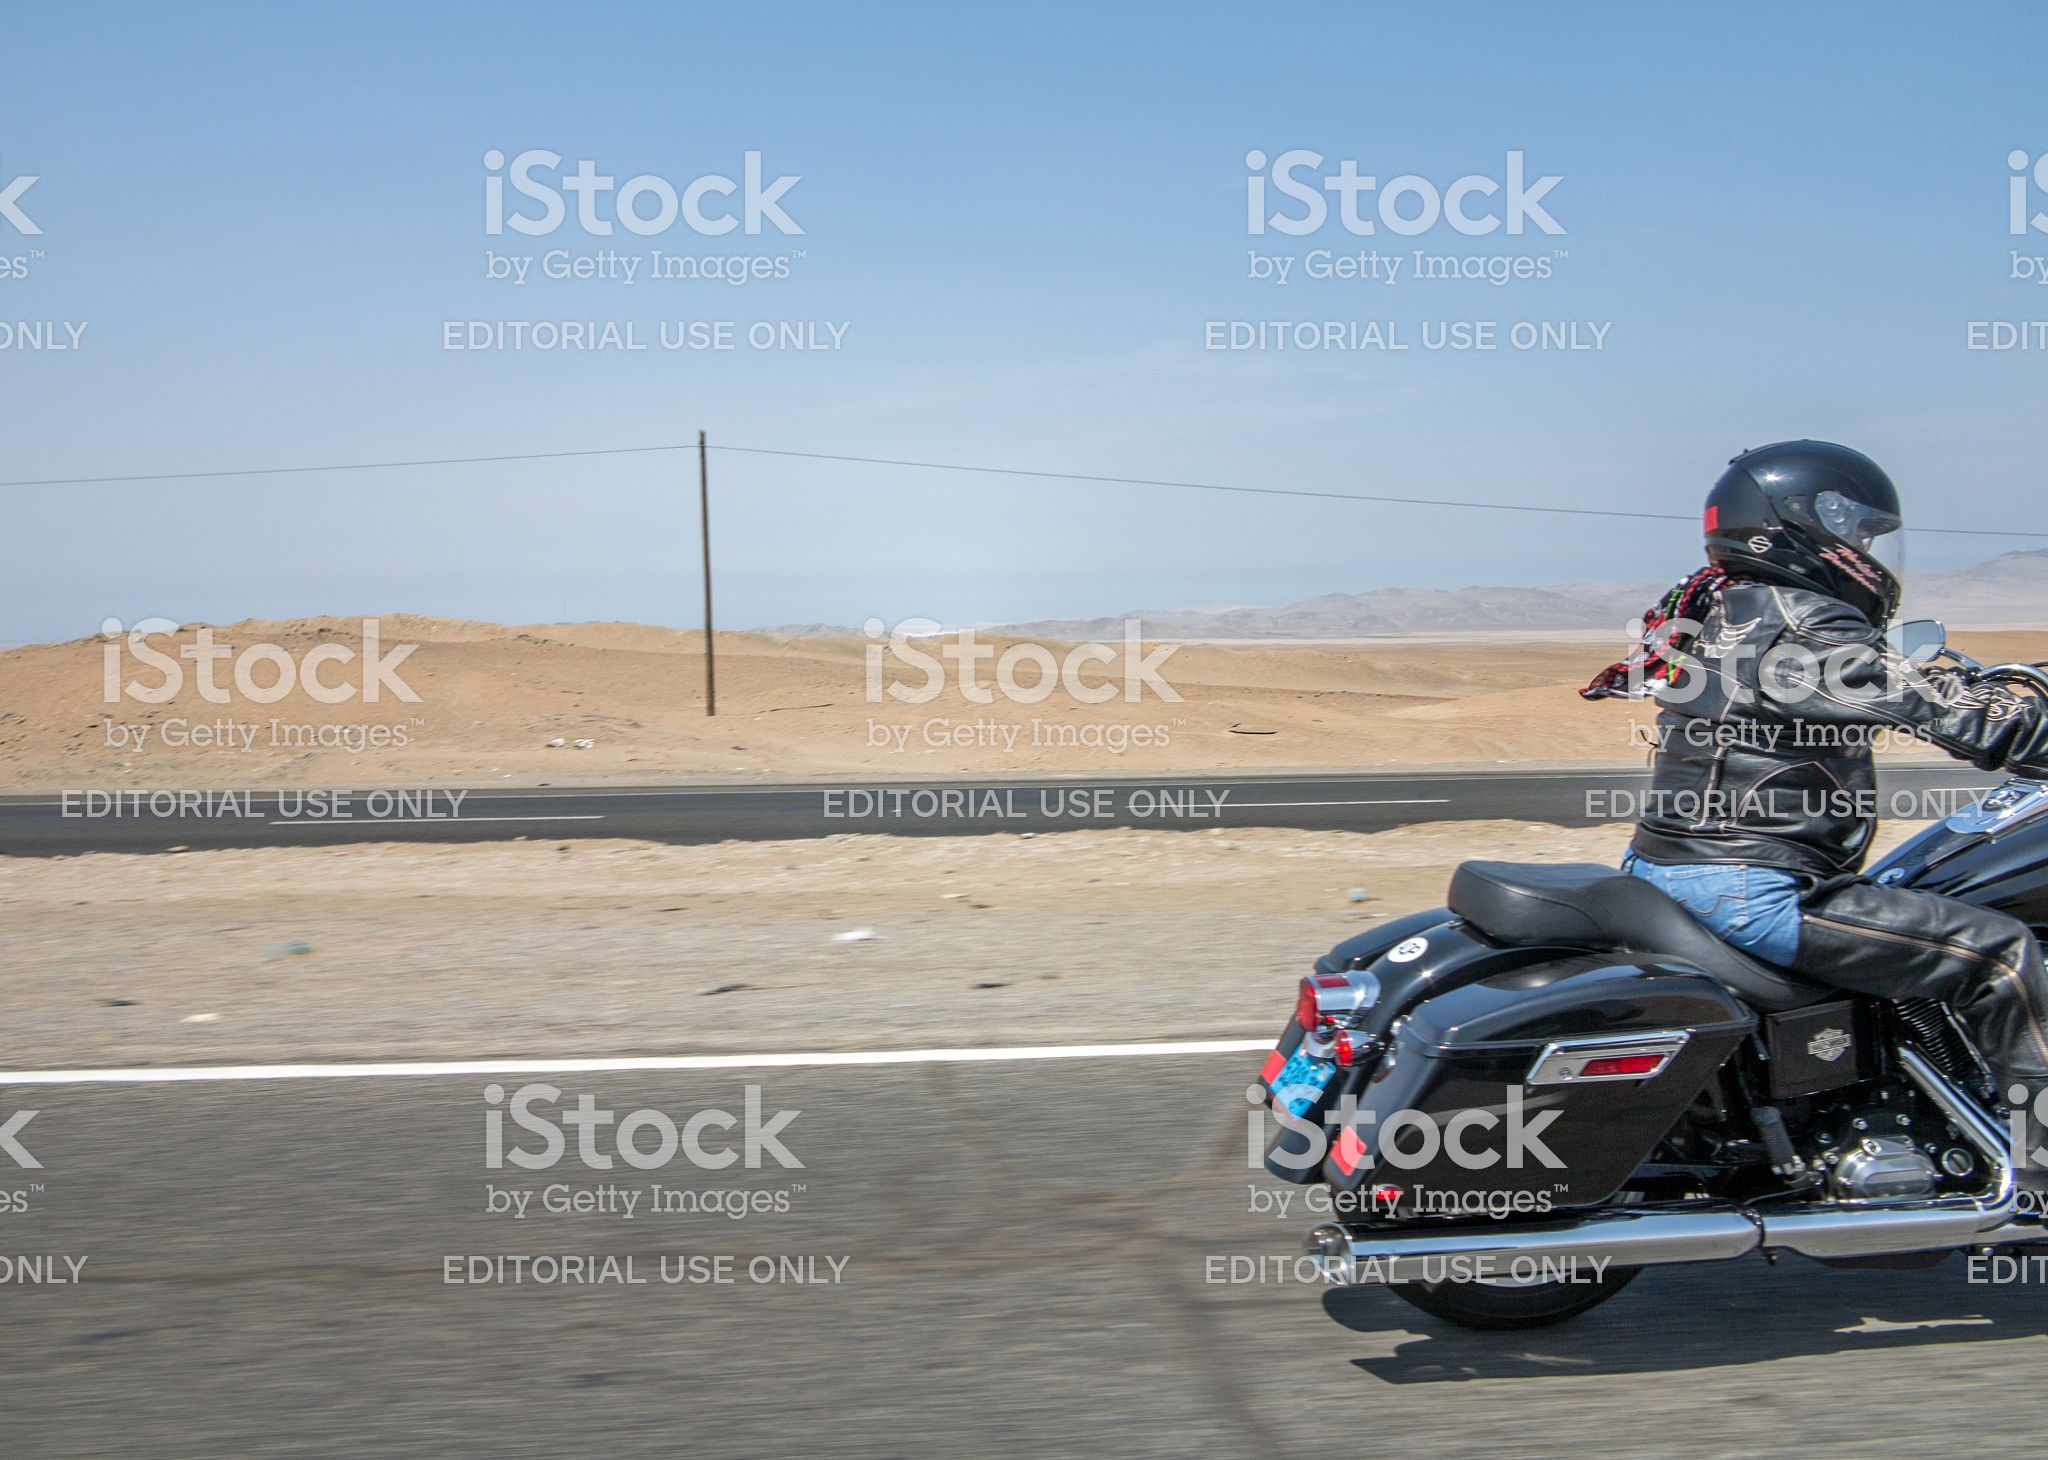helmet: (1715, 408, 1923, 613)
